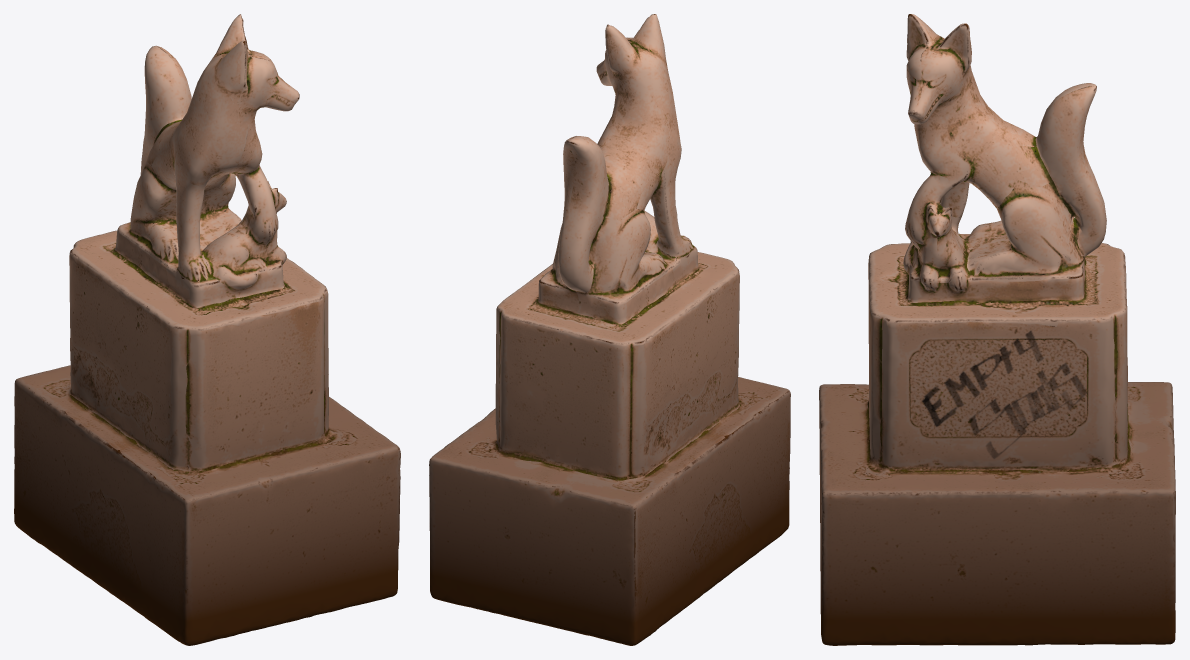
File: stylized_fox_monument.glb
3 views of the same model, side by side, from view 1: azimuth 30°, elevation 25°; view 2: azimuth 150°, elevation 25°; view 3: azimuth 270°, elevation 25° (orthographic). The views are drawn at different scales.
Visible parts, largest first — view 1: Aset_historical_feudal_japan_M_ve1haetqx_LOD0_DefaultMateria; view 2: Aset_historical_feudal_japan_M_ve1haetqx_LOD0_DefaultMateria; view 3: Aset_historical_feudal_japan_M_ve1haetqx_LOD0_DefaultMateria.
Boxes of the visible parts, box(x1,y1,x2,y2) form: Aset_historical_feudal_japan_M_ve1haetqx_LOD0_DefaultMateria: box(14, 14, 400, 645); Aset_historical_feudal_japan_M_ve1haetqx_LOD0_DefaultMateria: box(429, 14, 790, 645); Aset_historical_feudal_japan_M_ve1haetqx_LOD0_DefaultMateria: box(819, 14, 1175, 645).
Size of the model in its own units: 38.86 by 92.77 by 51.85.
1 material, 1 textured.
